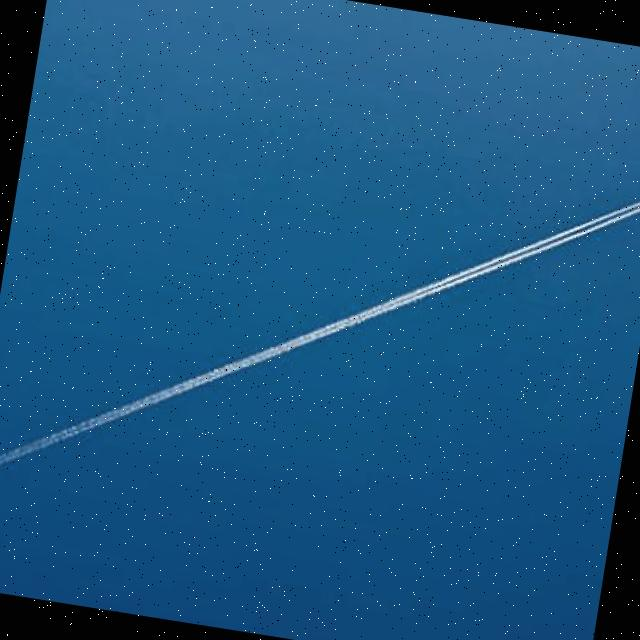Ct: (1, 2, 640, 586)
